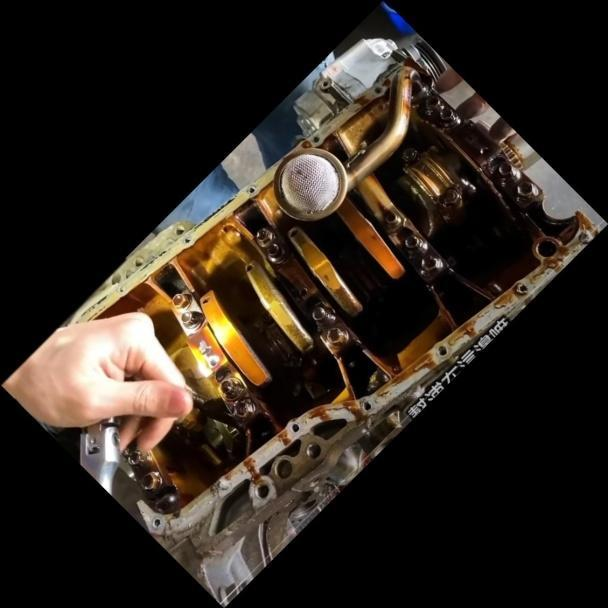hole: (316, 74, 333, 91), (433, 342, 449, 358), (514, 281, 529, 296), (149, 514, 164, 529), (288, 420, 302, 434), (371, 82, 384, 96), (245, 182, 258, 195), (360, 399, 372, 411), (116, 283, 127, 294), (182, 234, 192, 245), (311, 133, 321, 143)
